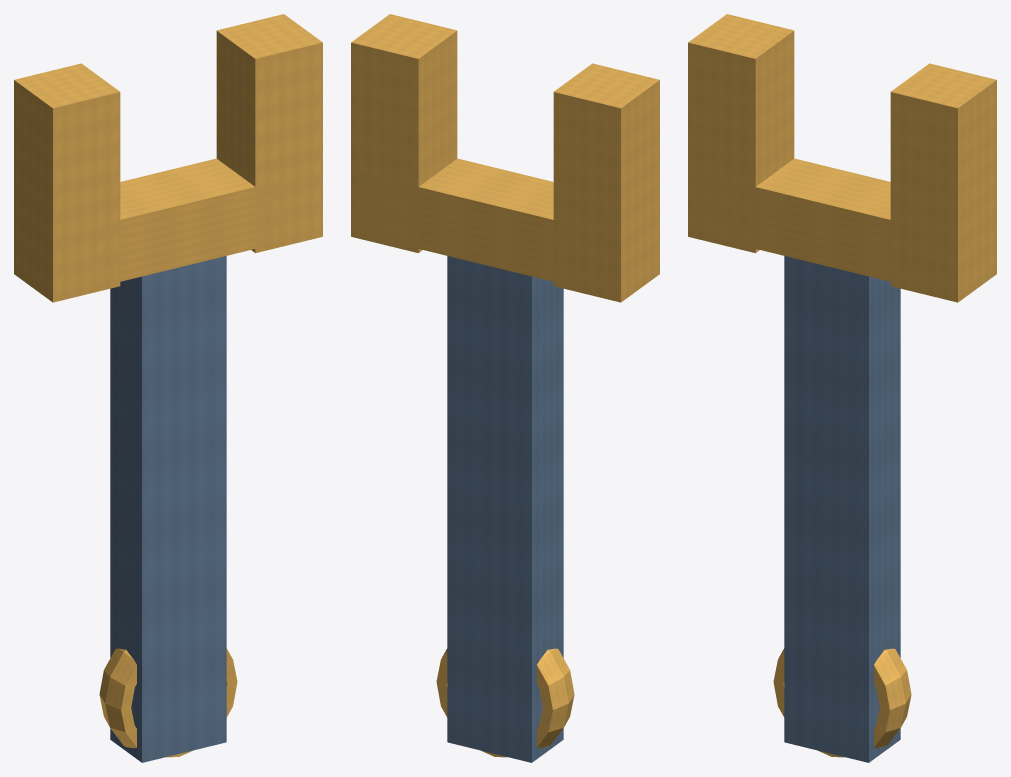
File: atlas100-s052-a05.glb
The picture shows the model from 3 angles, left to right: view 1: azimuth 30°, elevation 25°; view 2: azimuth 150°, elevation 25°; view 3: azimuth 330°, elevation 25°; orthographic projection.
Parts seen in each view (by area): view 1: atlas100-s052-a05:part-000, atlas100-s052-a05:part-001, atlas100-s052-a05:part-002, atlas100-s052-a05:part-003, atlas100-s052-a05:part-004; view 2: atlas100-s052-a05:part-000, atlas100-s052-a05:part-001, atlas100-s052-a05:part-002, atlas100-s052-a05:part-003, atlas100-s052-a05:part-004; view 3: atlas100-s052-a05:part-000, atlas100-s052-a05:part-002, atlas100-s052-a05:part-001, atlas100-s052-a05:part-003, atlas100-s052-a05:part-004.
Boxes of the visible parts, x1=… form: atlas100-s052-a05:part-000: x1=110, y1=256, x2=226, y2=762; atlas100-s052-a05:part-001: x1=14, y1=63, x2=120, y2=302; atlas100-s052-a05:part-002: x1=216, y1=14, x2=322, y2=253; atlas100-s052-a05:part-003: x1=61, y1=158, x2=313, y2=295; atlas100-s052-a05:part-004: x1=99, y1=648, x2=237, y2=757; atlas100-s052-a05:part-000: x1=447, y1=256, x2=563, y2=762; atlas100-s052-a05:part-001: x1=553, y1=63, x2=659, y2=302; atlas100-s052-a05:part-002: x1=351, y1=14, x2=457, y2=253; atlas100-s052-a05:part-003: x1=359, y1=158, x2=612, y2=294; atlas100-s052-a05:part-004: x1=436, y1=648, x2=574, y2=757; atlas100-s052-a05:part-000: x1=784, y1=256, x2=900, y2=762; atlas100-s052-a05:part-002: x1=890, y1=63, x2=996, y2=302; atlas100-s052-a05:part-001: x1=688, y1=14, x2=794, y2=253; atlas100-s052-a05:part-003: x1=696, y1=158, x2=948, y2=293; atlas100-s052-a05:part-004: x1=773, y1=648, x2=911, y2=757.
Bounding box in the file's own units: 0.3494 × 0.8572 × 0.0874.
Materials: 2 (2 with a texture image).
